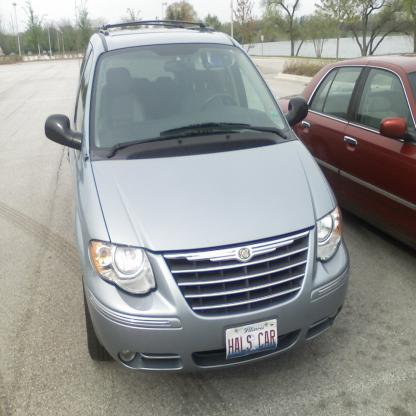Vehicle: (43, 22, 352, 378)
